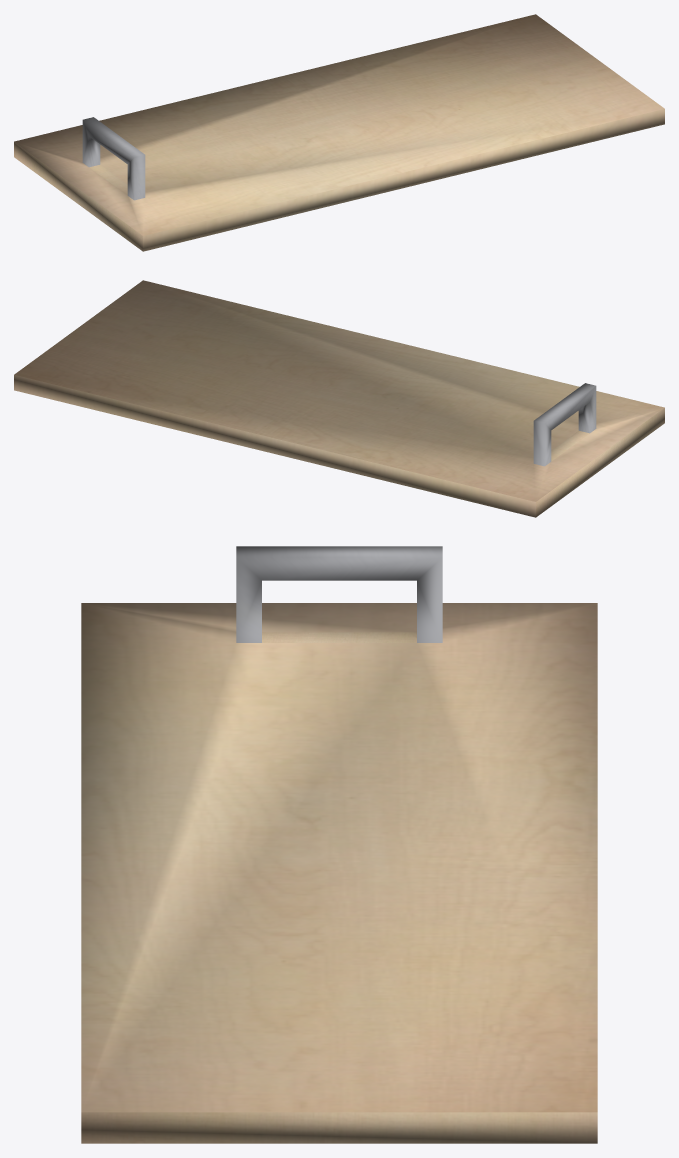
Rendered from top_left_door.obj.
3 views of the same model, one above another, from view 1: azimuth 30°, elevation 25°; view 2: azimuth 150°, elevation 25°; view 3: azimuth 270°, elevation 25° (orthographic). The views are drawn at different scales.
Visible parts, largest first — view 1: top_left_door; view 2: top_left_door; view 3: top_left_door.
Part boxes in pixels (x1,y1,x2,y2): top_left_door: [14, 14, 664, 251]; top_left_door: [14, 280, 664, 517]; top_left_door: [81, 546, 597, 1143].
Size of the model in its own units: 0.7 by 0.075 by 0.3.
